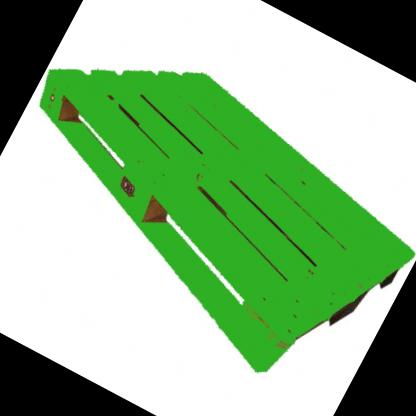BoxFace: (34, 64, 415, 388)
